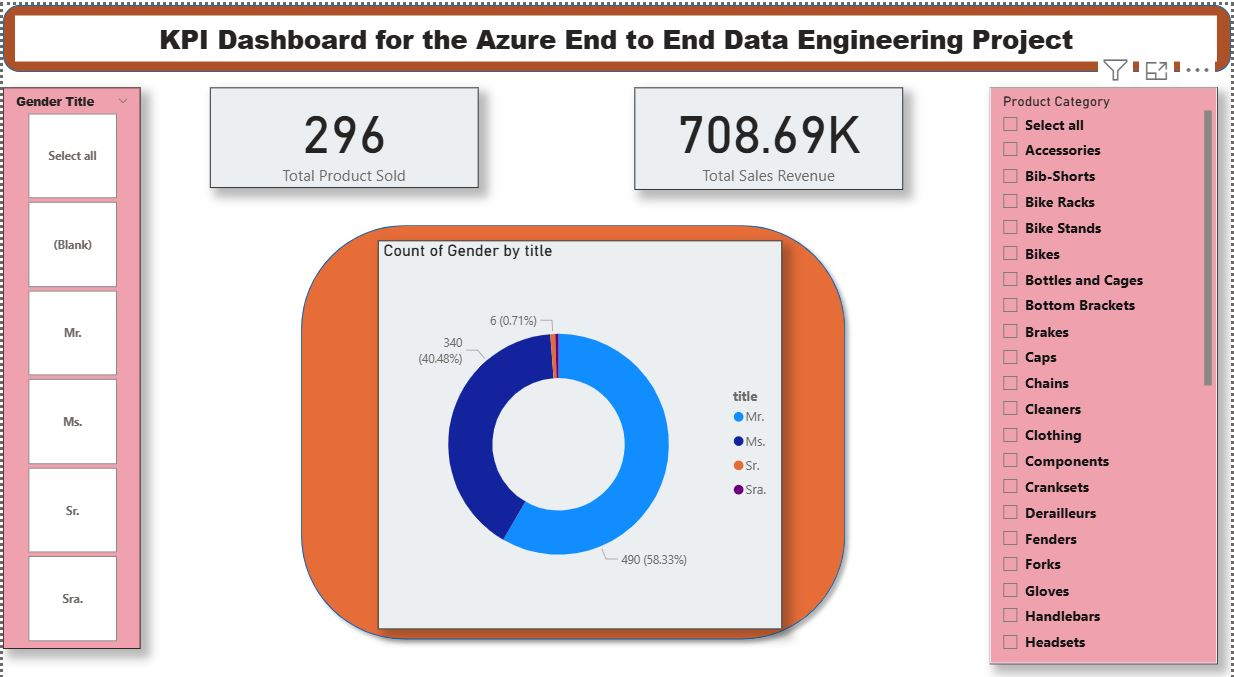

This screenshot's page, from the dashboard's own definition file:
{"tool":"powerbi","page":{"name":"Page 1","canvas":[1280,720],"ordinal":0},"visuals":[{"type":"shape","box":[0,0,1280.4,70],"z":0},{"type":"textbox","box":[12.7,11.1,1253.4,47.7],"z":1000},{"type":"slicer","fields":{"Values":["Customer.title"]},"box":[0,85.9,143.2,585.3],"z":2000},{"type":"slicer","fields":{"Values":["ProductCategory.name"]},"box":[1029.1,85.9,237,601.3],"z":3000},{"type":"card","fields":{"Values":["CountNonNull(Product.product_id)"]},"box":[216.3,85.9,279.9,105],"z":4000},{"type":"card","fields":{"Values":["Sum(SalesOrderDetail.line_total)"]},"box":[658.5,85.9,279.9,106.6],"z":5000},{"type":"shape","box":[302.2,221.1,585.3,450.1],"z":6000},{"type":"donutChart","fields":{"Y":["CountNonNull(Customer.title)"],"Category":["Customer.title"]},"box":[391.3,245,421.5,405.6],"z":6001}]}

Visuals, with their boxes in screenshot pixels (x1, y1, x2, y2), scaled from the page's 1280x720 canvas onto the 1234x677 screenshot:
shape: locate(0, 0, 1233, 66)
textbox: locate(12, 10, 1221, 55)
slicer - Customer.title: locate(0, 81, 138, 631)
slicer - ProductCategory.name: locate(992, 81, 1221, 646)
card - CountNonNull(Product.product_id): locate(209, 81, 478, 179)
card - Sum(SalesOrderDetail.line_total): locate(635, 81, 905, 181)
shape: locate(291, 208, 856, 631)
donutChart - CountNonNull(Customer.title) x Customer.title: locate(377, 230, 784, 612)
